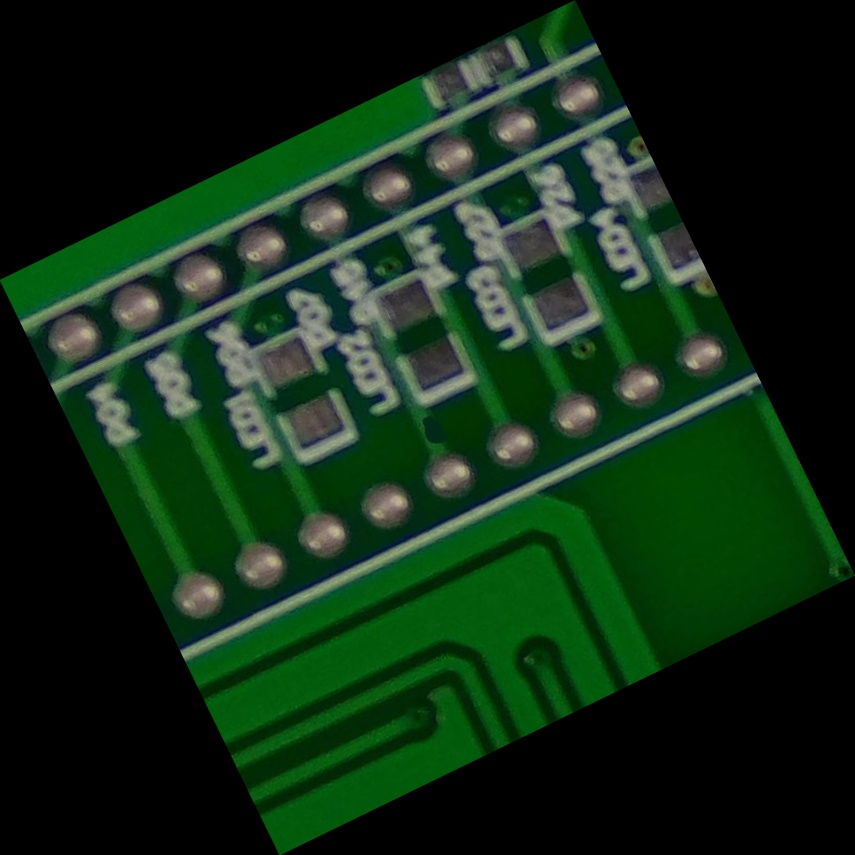mouse_bite: (392, 395, 464, 460)
